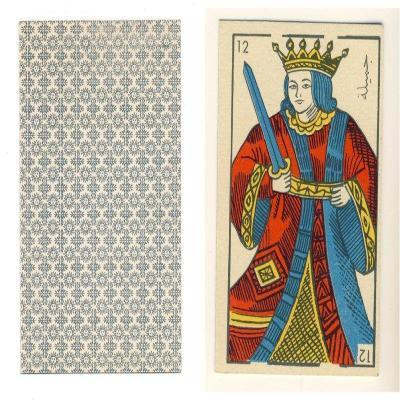graphics: (214, 19, 383, 377), (18, 19, 182, 376)
